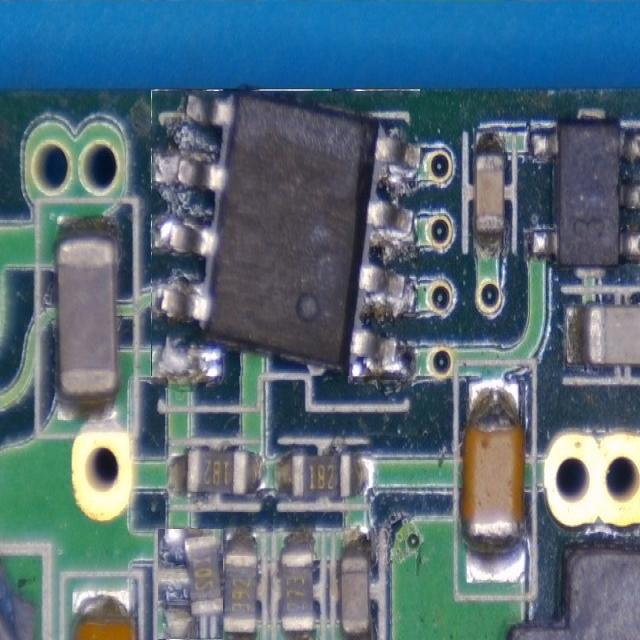Incorrect_installation: (151, 90, 420, 376), (159, 529, 222, 640)
